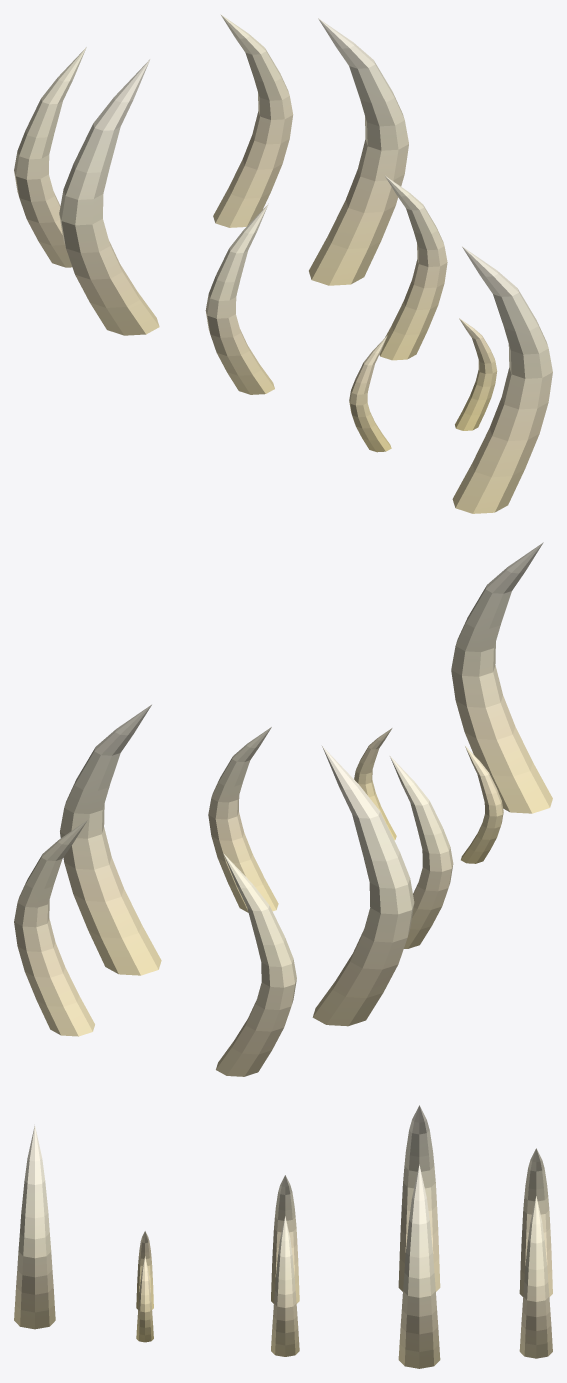
File: Bone4.fbx
3 renders of one model, top to bottom at view 1: azimuth 30°, elevation 25°; view 2: azimuth 150°, elevation 25°; view 3: azimuth 270°, elevation 25°, orthographic. The views are drawn at different scales.
Parts seen in each view (by area): view 1: Huesos; view 2: Huesos; view 3: Huesos.
Boxes of the visible parts, left/top/right/bottom form: Huesos: left=14, top=14, right=552, bottom=513; Huesos: left=14, top=542, right=552, bottom=1076; Huesos: left=14, top=1105, right=552, bottom=1368.
Bounding box in the file's own units: 2.19 × 1.61 × 4.09.
1 material, 1 textured.
